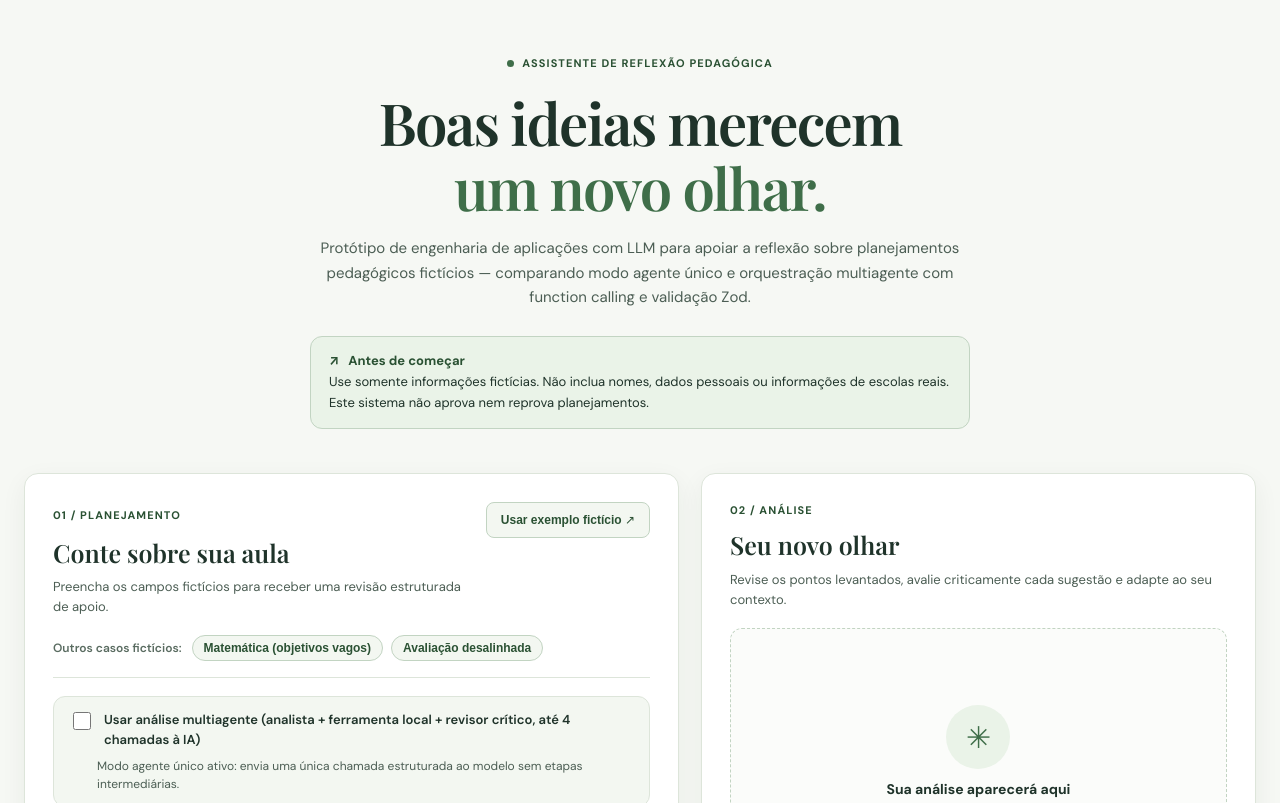
Test: exibe progresso e resultado multiagente simulado
The image size is (1280, 803).
Click the button "Usar exemplo fictício ↗" at (568, 520), box [486,502,650,538]
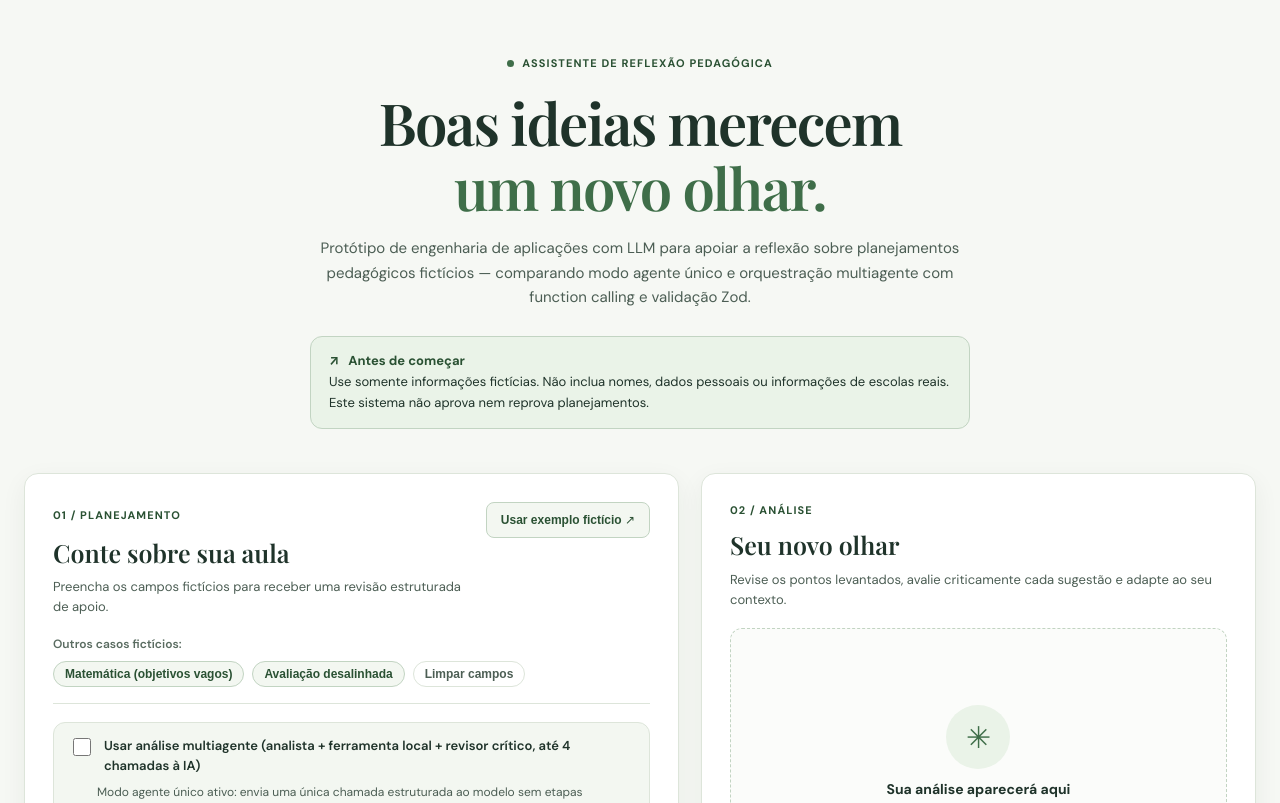
Click the checkbox labelled "multiagente" at (82, 747), box [73,738,91,756]
(page scrolled)
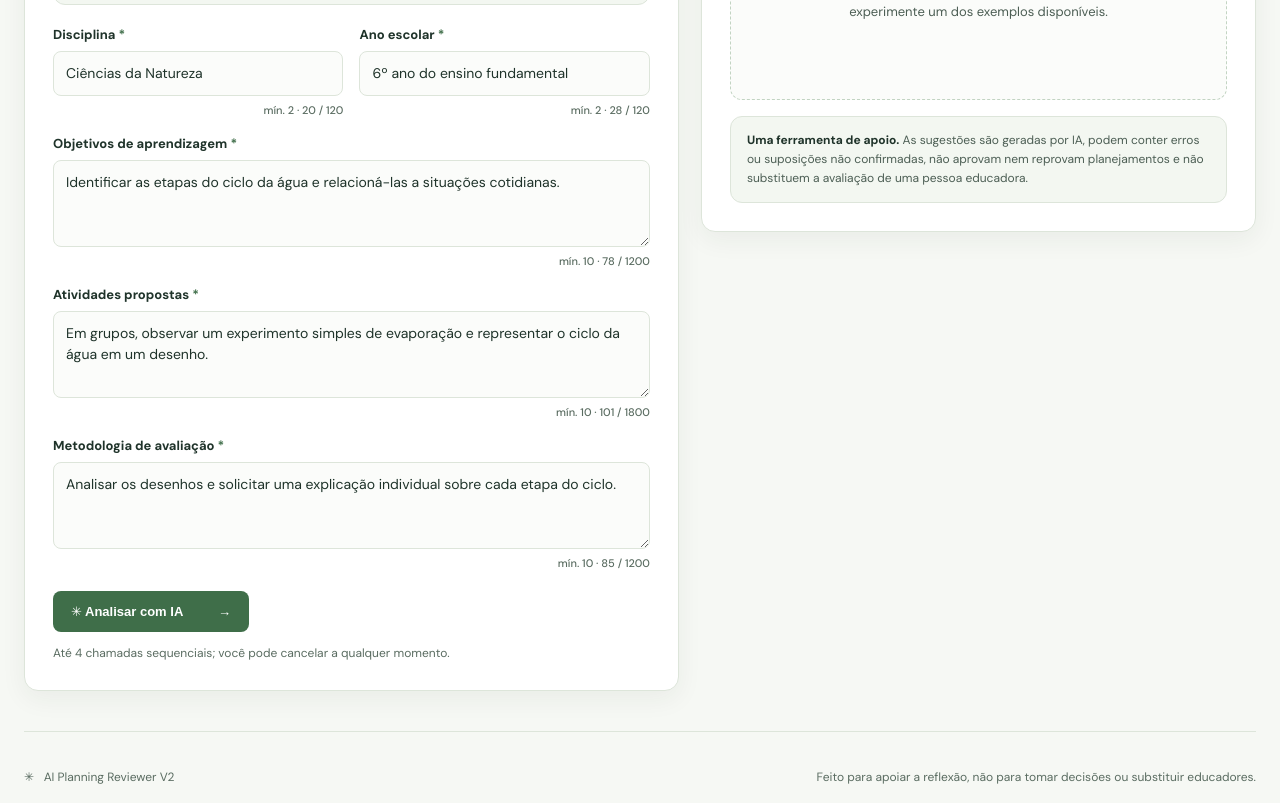
Click the button "✳ Analisar com IA →" at (151, 612), box [53,591,249,632]
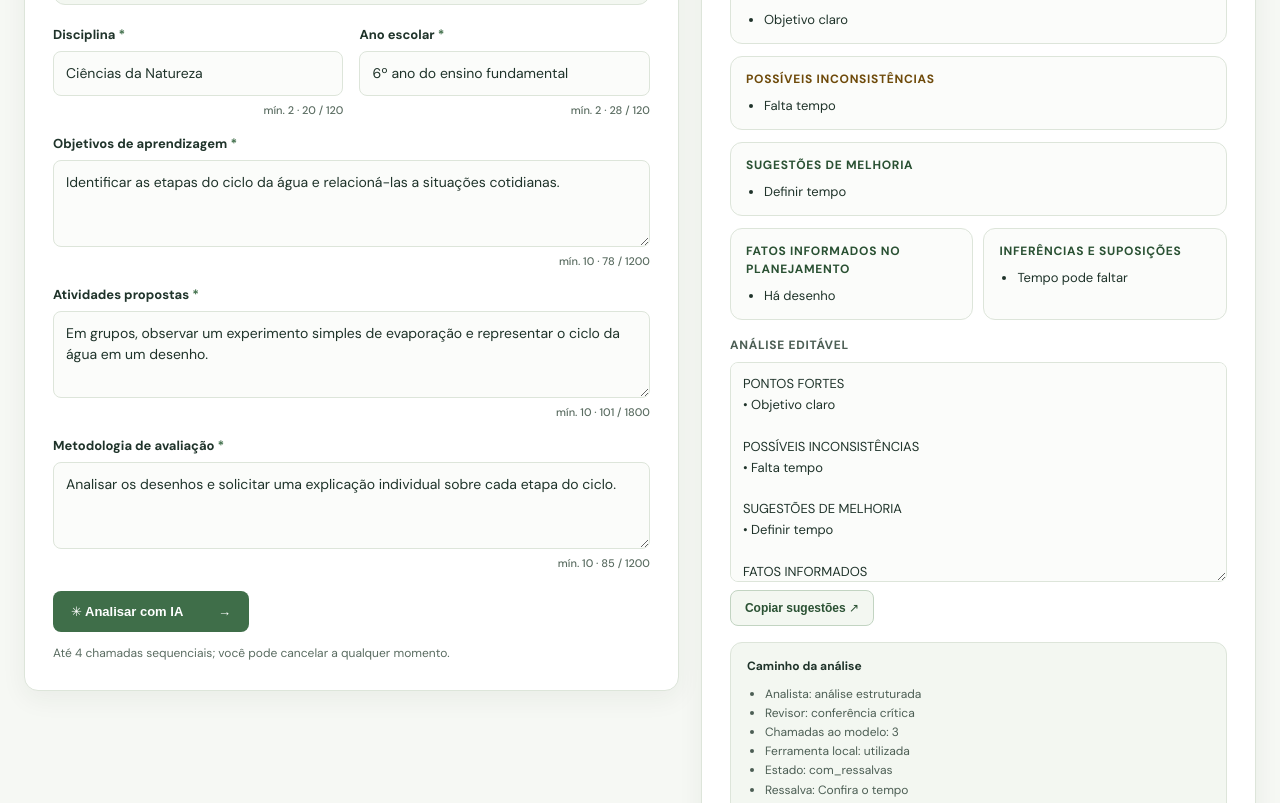
Expected: the list item "Ressalva: Confira o tempo" is shown, [765,782,908,798]
